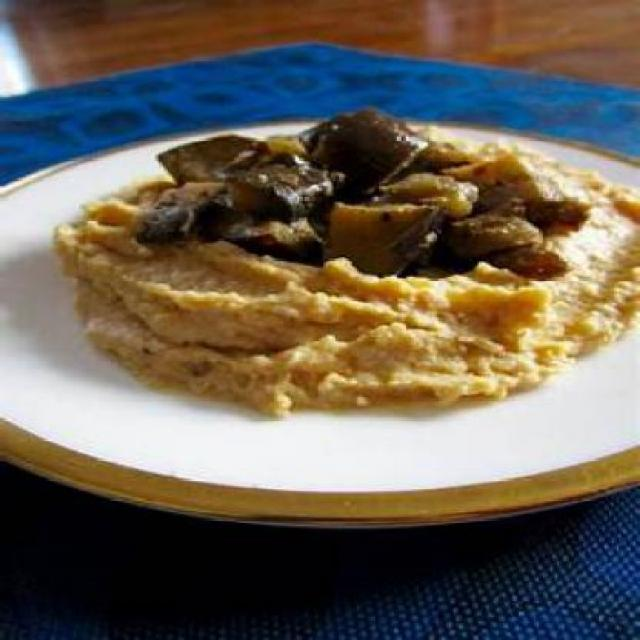eggplant: (148, 105, 562, 266)
hummus: (52, 136, 636, 421)
